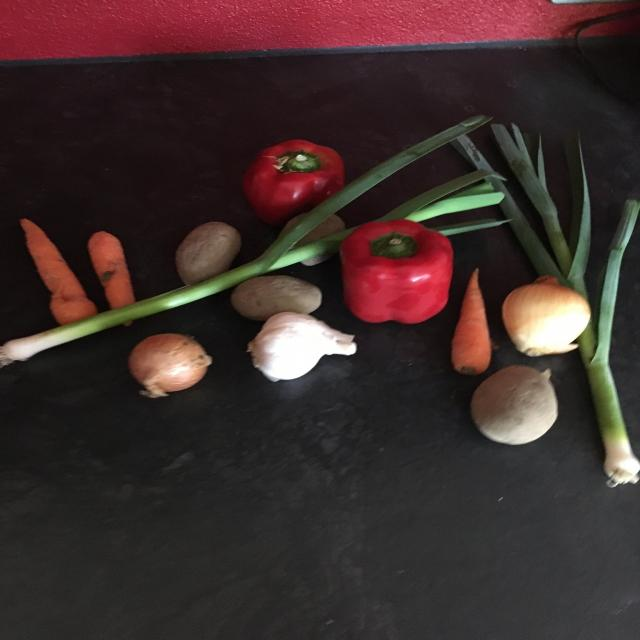Carrot: (15, 215, 94, 325), (87, 229, 142, 328), (449, 266, 491, 375)
Garlic bulb: (248, 313, 362, 382)
Leek: (0, 117, 491, 371), (458, 123, 640, 487)
Onion: (501, 275, 593, 360), (126, 332, 212, 402)
Pepper: (340, 214, 464, 318), (242, 133, 347, 226)
Potato: (466, 362, 567, 452), (172, 214, 243, 291), (226, 272, 326, 322)
